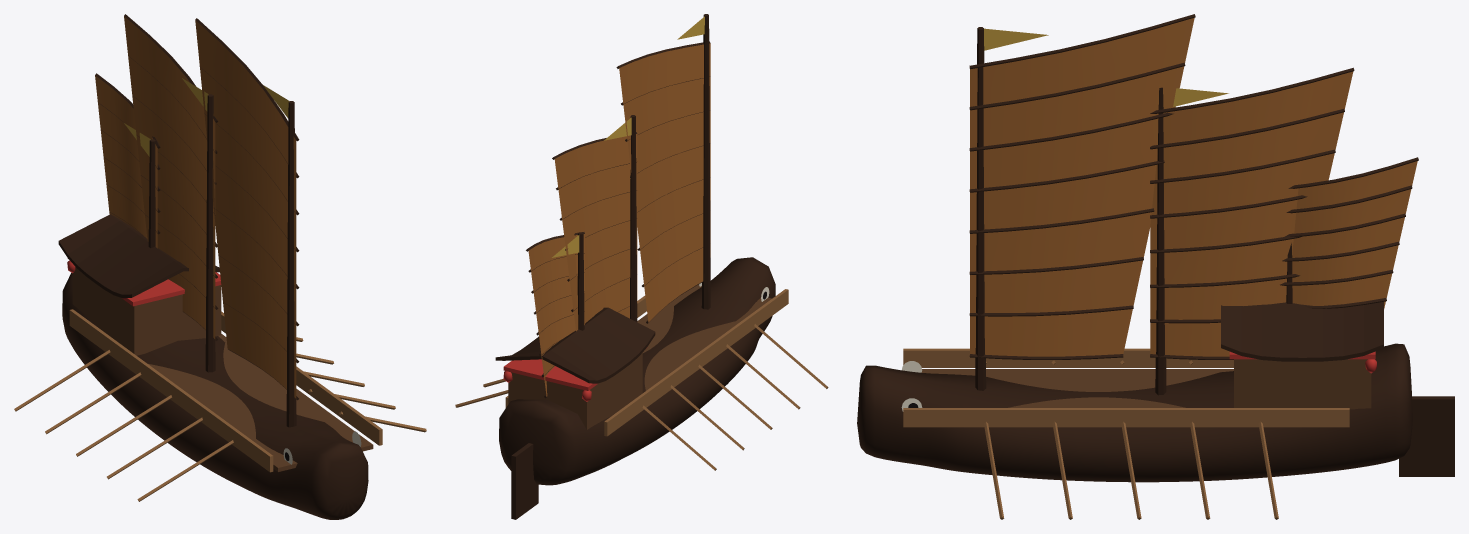
The model's file is thuyen_nam_han.glb.
The picture shows the model from 3 angles, left to right: view 1: azimuth 30°, elevation 25°; view 2: azimuth 150°, elevation 25°; view 3: azimuth 270°, elevation 25°; orthographic projection. The views are drawn at different scales.
Parts seen in each view (by area): view 1: buom0, than, buom1, mai, san, lau, buom2, man-1, cot0, cot1, man1, lau_cot (+2 smaller); view 2: buom0, than, buom1, mai, buom2, lau, man-1, san, cot0, lai, cot1, lau_cot (+1 smaller); view 3: buom0, than, buom1, buom2, man1, mai, lau, san, lai, man-1, cot0, cot1 (+11 smaller).
Boxes of the visible parts, x1=… form: buom0: x1=195, y1=20, x2=296, y2=398; than: x1=62, y1=272, x2=368, y2=519; buom1: x1=124, y1=16, x2=215, y2=339; mai: x1=58, y1=214, x2=219, y2=298; san: x1=148, y1=334, x2=373, y2=471; lau: x1=72, y1=267, x2=221, y2=355; buom2: x1=95, y1=75, x2=157, y2=248; man-1: x1=69, y1=309, x2=273, y2=472; cot0: x1=286, y1=101, x2=296, y2=427; cot1: x1=205, y1=94, x2=215, y2=372; man1: x1=221, y1=311, x2=382, y2=445; lau_cot: x1=67, y1=258, x2=221, y2=306; buom0: x1=619, y1=43, x2=710, y2=322; than: x1=499, y1=257, x2=775, y2=485; buom1: x1=554, y1=134, x2=637, y2=331; mai: x1=495, y1=307, x2=655, y2=383; buom2: x1=528, y1=234, x2=584, y2=396; lau: x1=508, y1=353, x2=642, y2=429; man-1: x1=604, y1=289, x2=788, y2=436; san: x1=637, y1=284, x2=771, y2=390; cot0: x1=701, y1=14, x2=710, y2=309; lai: x1=511, y1=443, x2=538, y2=519; cot1: x1=630, y1=115, x2=637, y2=321; lau_cot: x1=503, y1=347, x2=647, y2=390; buom0: x1=970, y1=17, x2=1194, y2=356; than: x1=857, y1=343, x2=1412, y2=482; buom1: x1=1150, y1=71, x2=1353, y2=356; buom2: x1=1292, y1=161, x2=1417, y2=308; man1: x1=903, y1=408, x2=1349, y2=427; mai: x1=1221, y1=301, x2=1383, y2=361; lau: x1=1234, y1=359, x2=1371, y2=409; san: x1=921, y1=369, x2=1233, y2=407; lai: x1=1399, y1=396, x2=1454, y2=476; man-1: x1=903, y1=348, x2=1233, y2=367; cot0: x1=975, y1=27, x2=986, y2=390; cot1: x1=1155, y1=87, x2=1166, y2=395.
Bounding box in the file's own units: 8.64 × 11.89 × 13.93.
